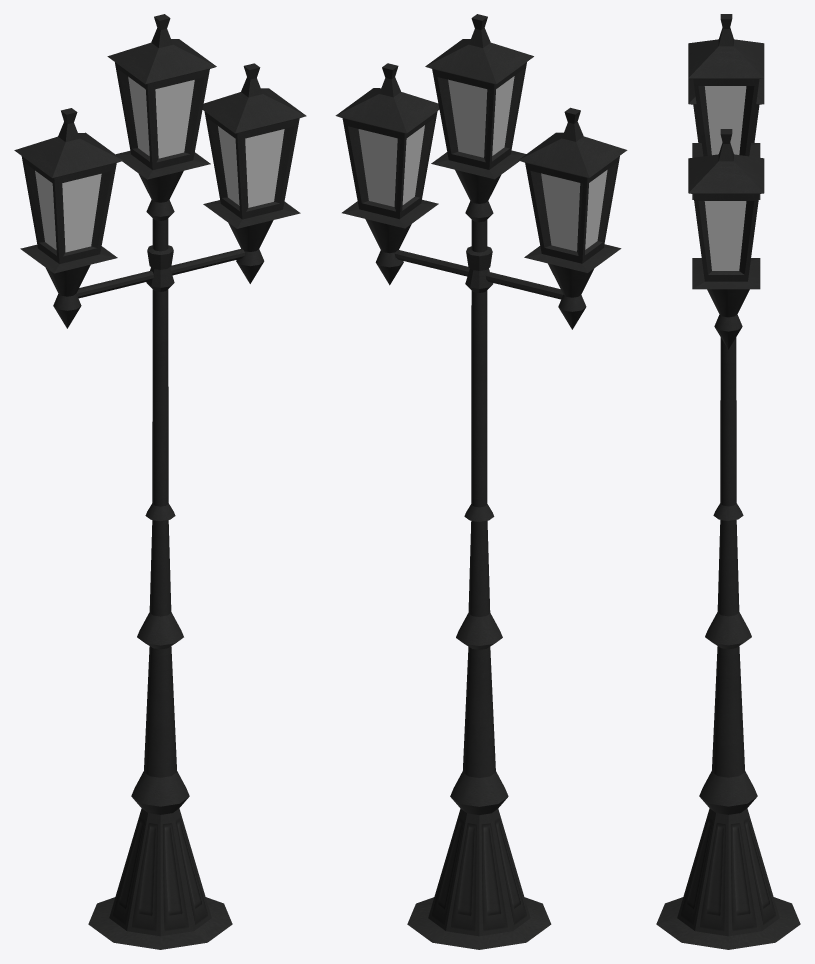
The model's file is D_lamppost_3x_park.FBX.
3 renders of one model, left to right at view 1: azimuth 30°, elevation 25°; view 2: azimuth 150°, elevation 25°; view 3: azimuth 270°, elevation 25°, orthographic.
Parts seen in each view (by area): view 1: Object155; view 2: Object155; view 3: Object155.
Boxes of the visible parts, x1=… form: Object155: x1=14, y1=14, x2=306, y2=949; Object155: x1=335, y1=14, x2=627, y2=949; Object155: x1=656, y1=14, x2=800, y2=949.
Size of the model in its own units: 3.74 by 1.83 by 12.64.
